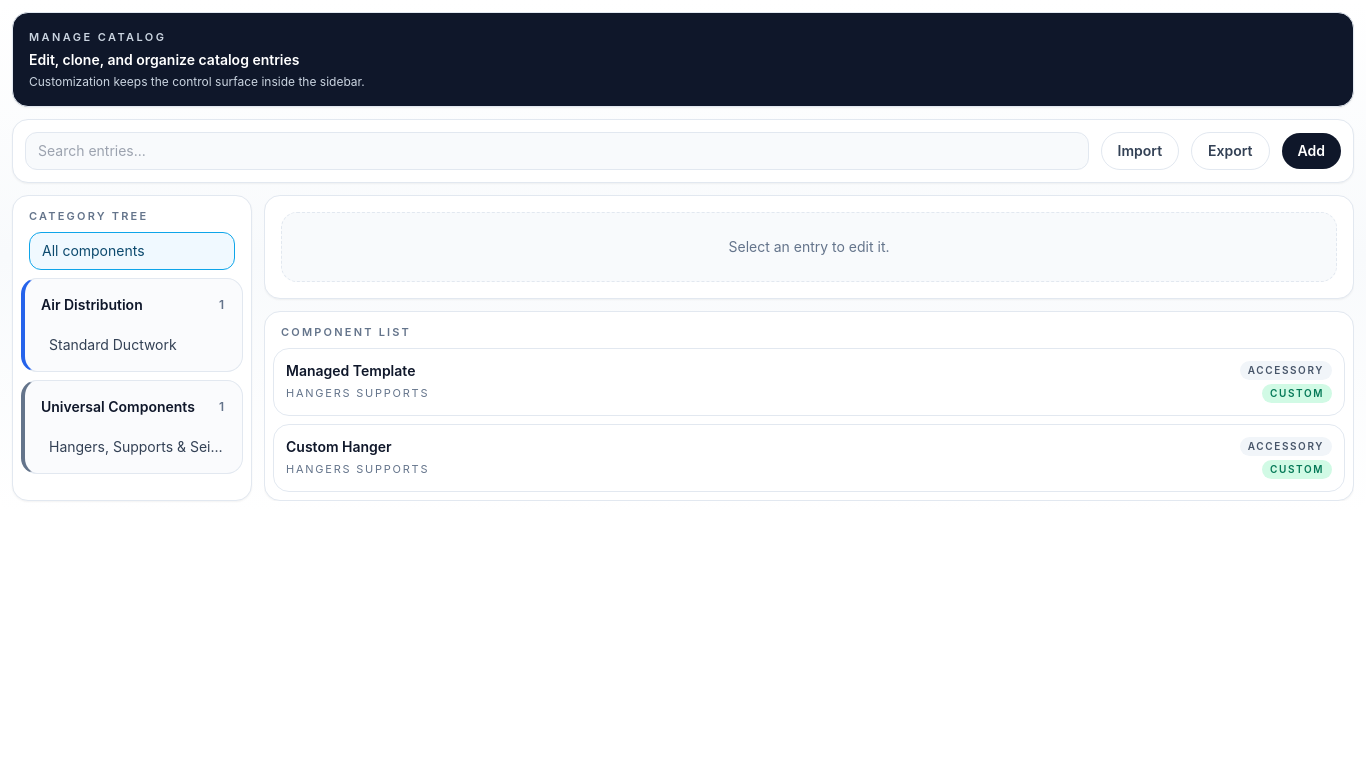
Test: ManagePanel › shows unsaved changes and canvas reference warnings in the slide-over editor
The width and height of the screenshot is (1366, 768).
Step 1. Click the button with test id "manage-entry-custom-hanger" → click(339, 446), box x1=273 y1=424 x2=1345 y2=492
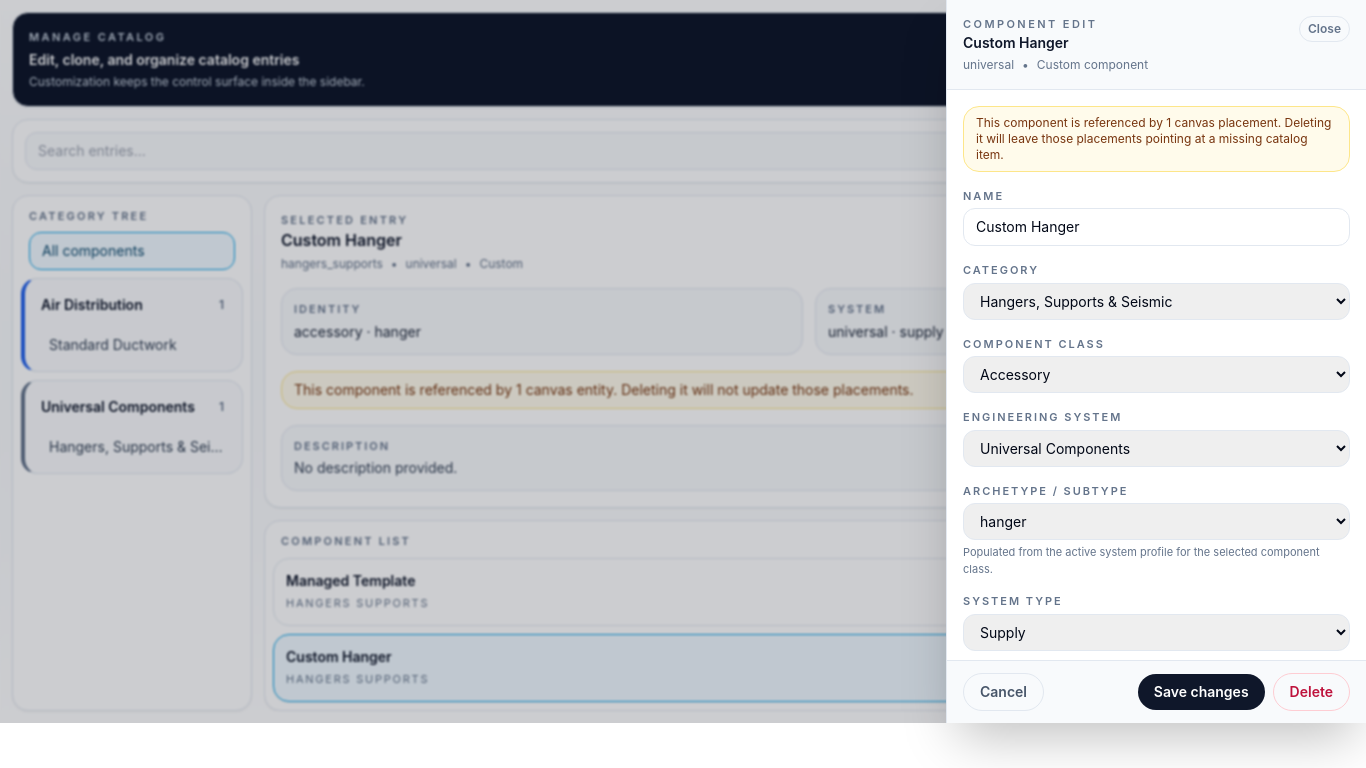
expect the text "referenced by 1 canvas placement" is shown: met, box x1=963 y1=106 x2=1350 y2=172
Step 2. Replace the text in the field showing "Custom Hanger" with "Custom Hanger Updated" → (1156, 227), box x1=963 y1=208 x2=1350 y2=246
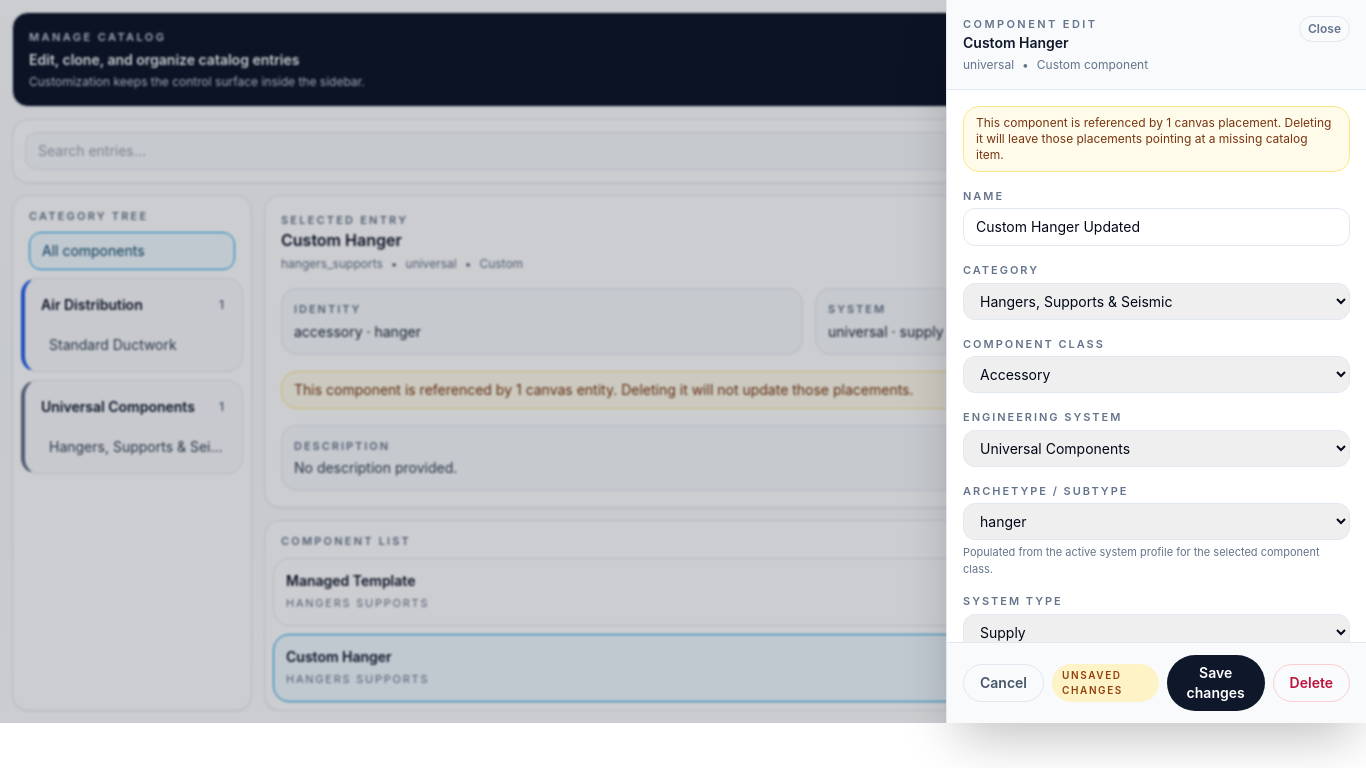
expect the text "Unsaved changes" is shown: met, box x1=1052 y1=664 x2=1159 y2=702
Step 3. Click the button "Delete" → click(1311, 682), box x1=1273 y1=664 x2=1350 y2=702
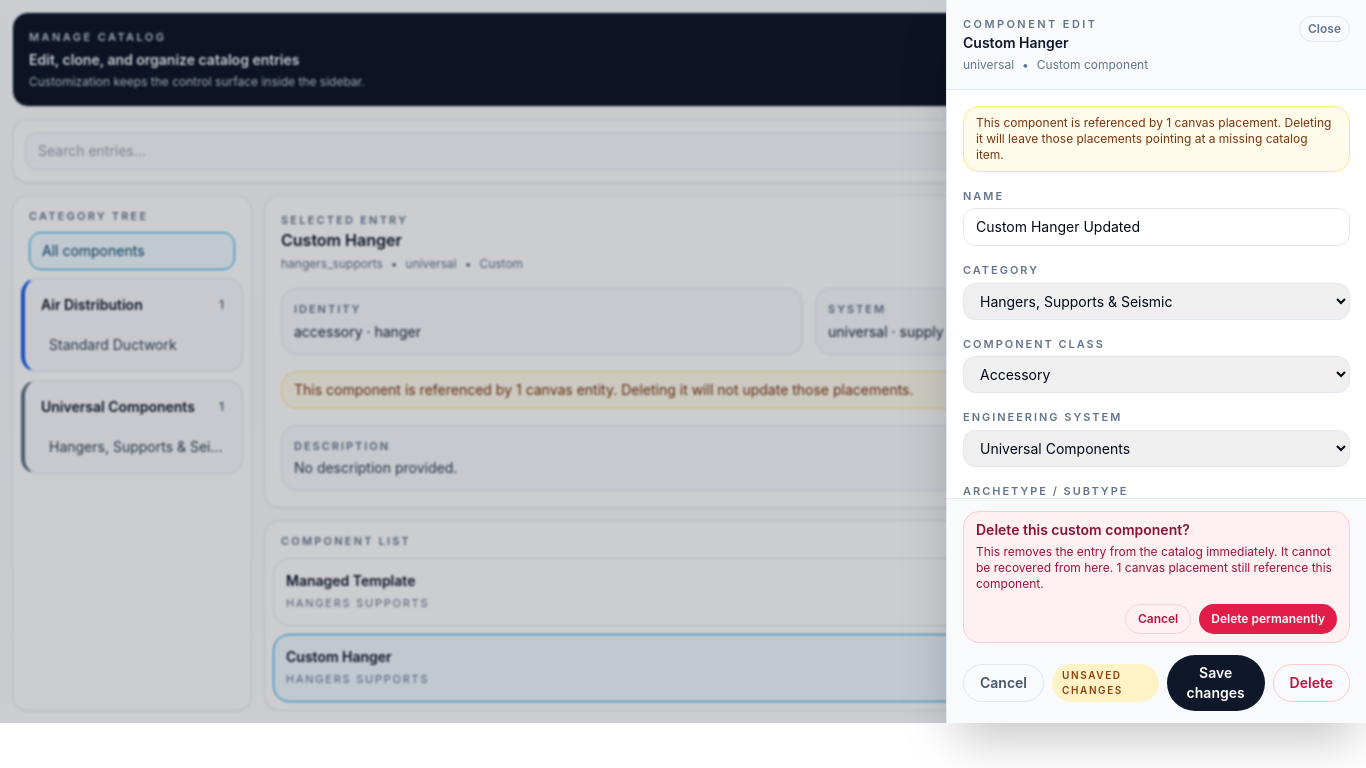
expect the text "still reference this component" is shown: met, box x1=976 y1=560 x2=1332 y2=590
